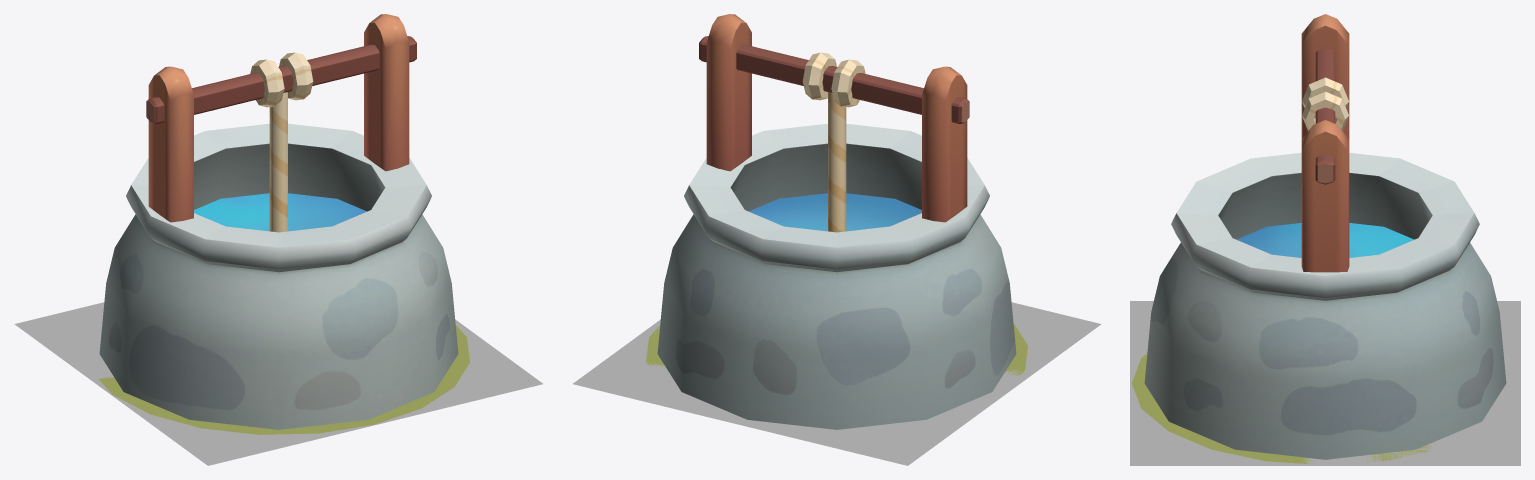
Rendered from Well.fbx.
The picture shows the model from 3 angles, left to right: view 1: azimuth 30°, elevation 25°; view 2: azimuth 150°, elevation 25°; view 3: azimuth 270°, elevation 25°; orthographic projection.
Parts seen in each view (by area): view 1: Well, WoodSupport, WellGrid.001, Wood, WellShadow, Rope, TiedRope; view 2: Well, WellGrid.001, WoodSupport, Wood, Rope, TiedRope, WellShadow; view 3: Well, WellGrid.001, WoodSupport, WellShadow, TiedRope, Wood.
Part boxes in pixels (<box>): Well: <box>99,123,458,429</box>; WoodSupport: <box>148,14,409,222</box>; WellGrid.001: <box>14,302,542,465</box>; Wood: <box>146,36,416,123</box>; WellShadow: <box>98,325,469,434</box>; Rope: <box>269,92,287,232</box>; TiedRope: <box>250,52,313,107</box>; Well: <box>657,123,1016,429</box>; WellGrid.001: <box>573,302,1101,465</box>; WoodSupport: <box>706,14,967,222</box>; Wood: <box>699,36,969,123</box>; Rope: <box>828,92,846,232</box>; TiedRope: <box>802,52,865,107</box>; WellShadow: <box>646,323,1027,376</box>; Well: <box>1144,152,1506,459</box>; WellGrid.001: <box>1130,301,1520,465</box>; WoodSupport: <box>1301,14,1349,272</box>; WellShadow: <box>1132,353,1431,463</box>; TiedRope: <box>1302,77,1348,130</box>; Wood: <box>1315,48,1335,184</box>.
Bounding box in the file's own units: 200 × 179 × 200.
